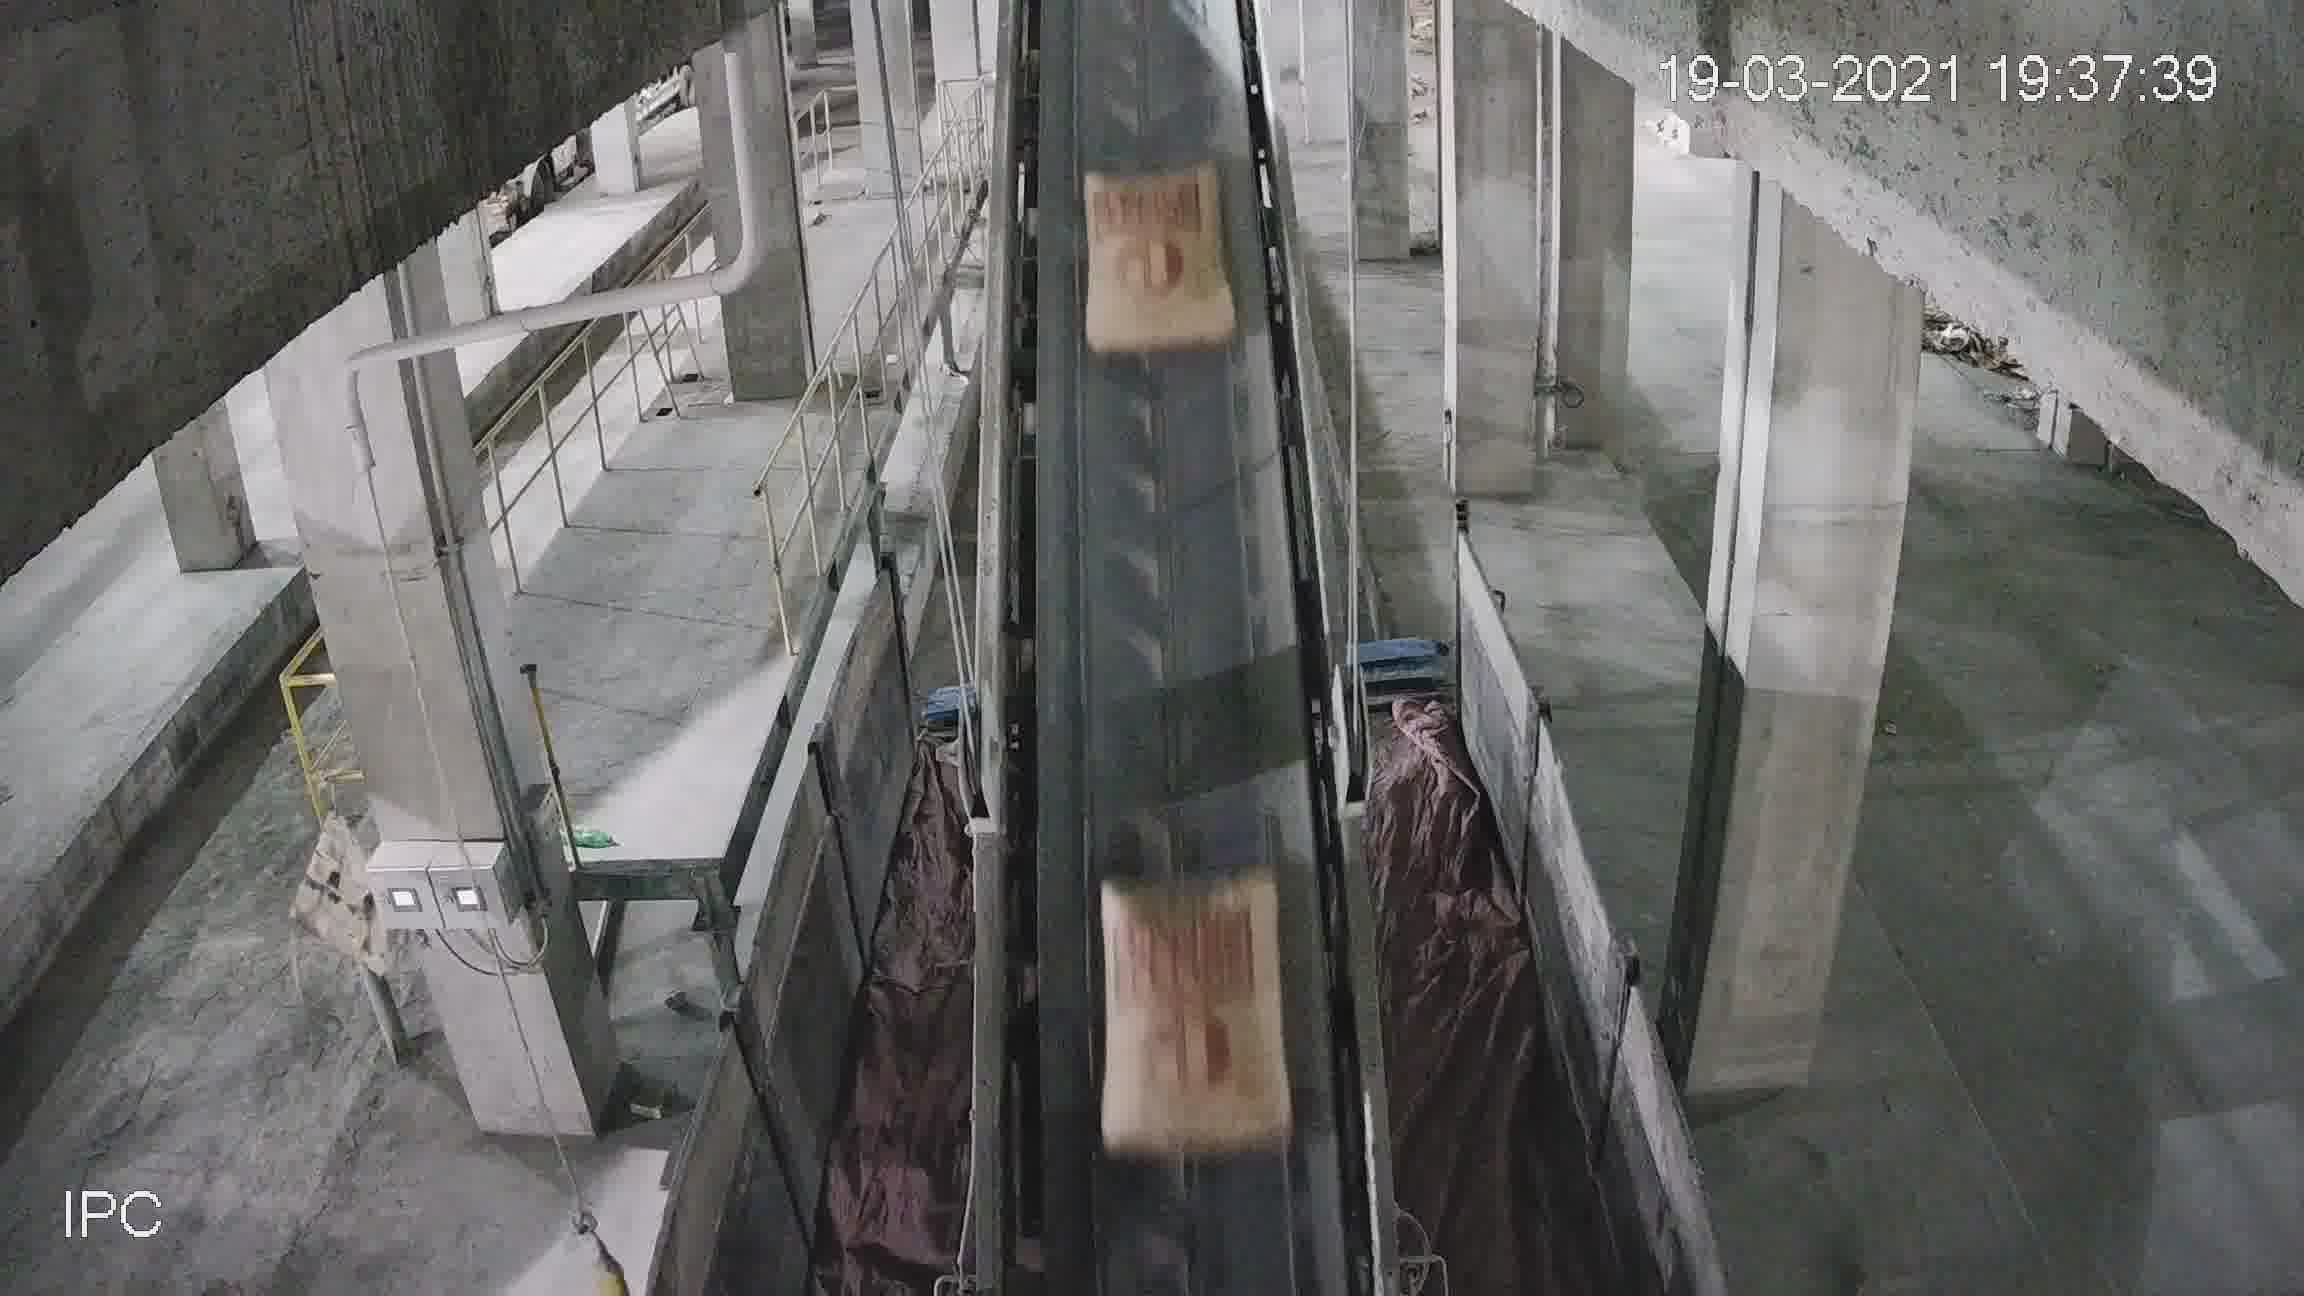bag: (1098, 886, 1291, 1157), (1087, 163, 1228, 350)
belt: (989, 70, 1355, 1199)
